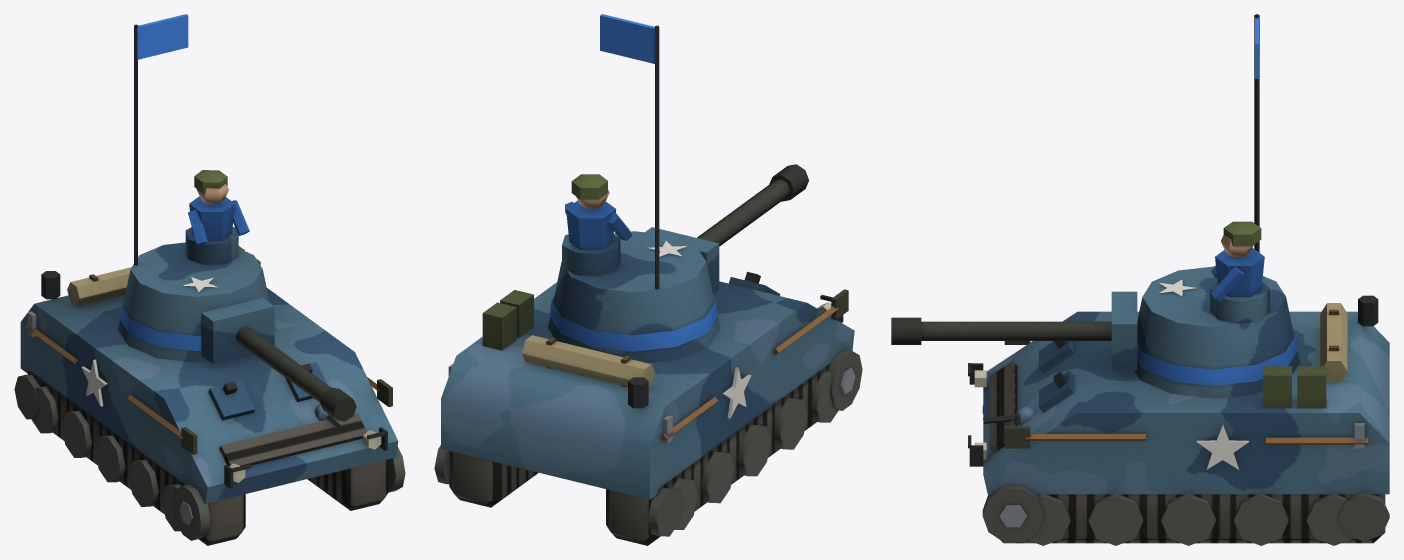
Rendered from assault_dl6_blue.glb.
The picture shows the model from 3 angles, left to right: view 1: azimuth 30°, elevation 25°; view 2: azimuth 150°, elevation 25°; view 3: azimuth 270°, elevation 25°; orthographic projection. The views are drawn at different scales.
Visible parts, largest first — view 1: assault_dl6_blue; view 2: assault_dl6_blue; view 3: assault_dl6_blue.
Part boxes in pixels (x1,y1,x2,y2): assault_dl6_blue: (14,14,405,545); assault_dl6_blue: (434,14,862,545); assault_dl6_blue: (891,14,1389,545).
Size of the model in its own units: 0.304 by 0.595 by 0.5825.
Materials: 1 (1 with a texture image).
